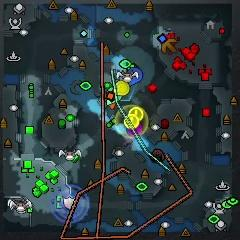Other: (124, 114, 139, 129), (129, 107, 144, 121)
p1: (126, 68, 144, 85)
p2: (108, 87, 122, 105)
p3: (127, 125, 143, 137)
p4: (114, 81, 131, 97)
p5: (109, 103, 116, 110)
x5: (161, 38, 177, 54)
